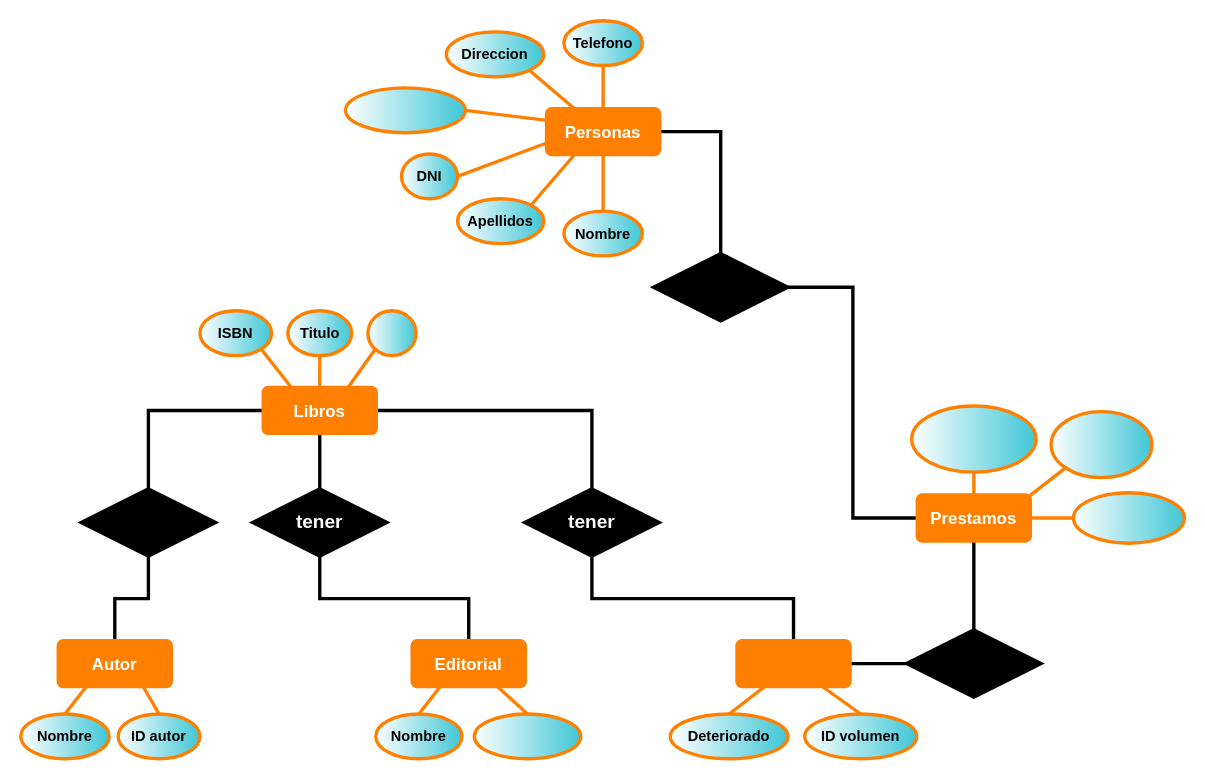
Some shapes in this 1205 by 780 pixel diagram are drawn without their labels. The shapes that lost their labels are listed below. From the top down, each one's centre as x and y in pixels, then its label:
At (404,110): "Codigo Socio".
At (720,286): "hacer".
At (391,333): "Año".
At (973,438): "fecha devolucion".
At (1101,444): "fecha prestamo".
At (148,522): "Escribir".
At (1128,517): "ID prestamo".
At (793,663): "Volumenes".
At (973,663): "prestar".
At (527,736): "ID editorial".
